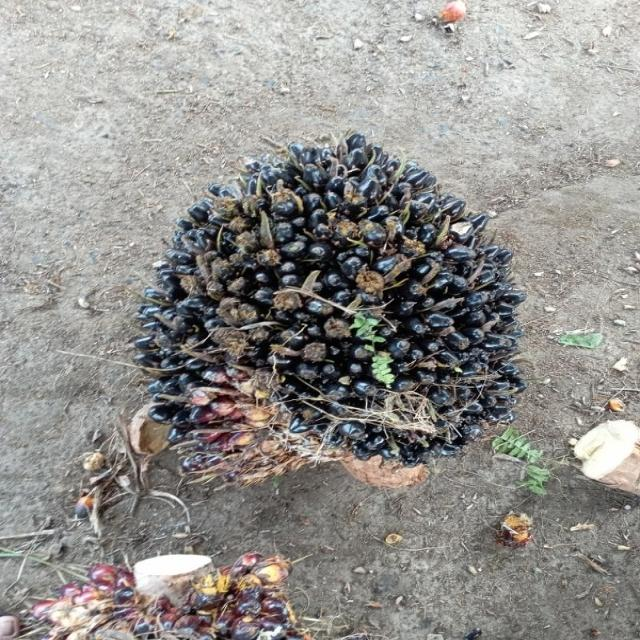fraksi 00: (139, 136, 536, 487)
